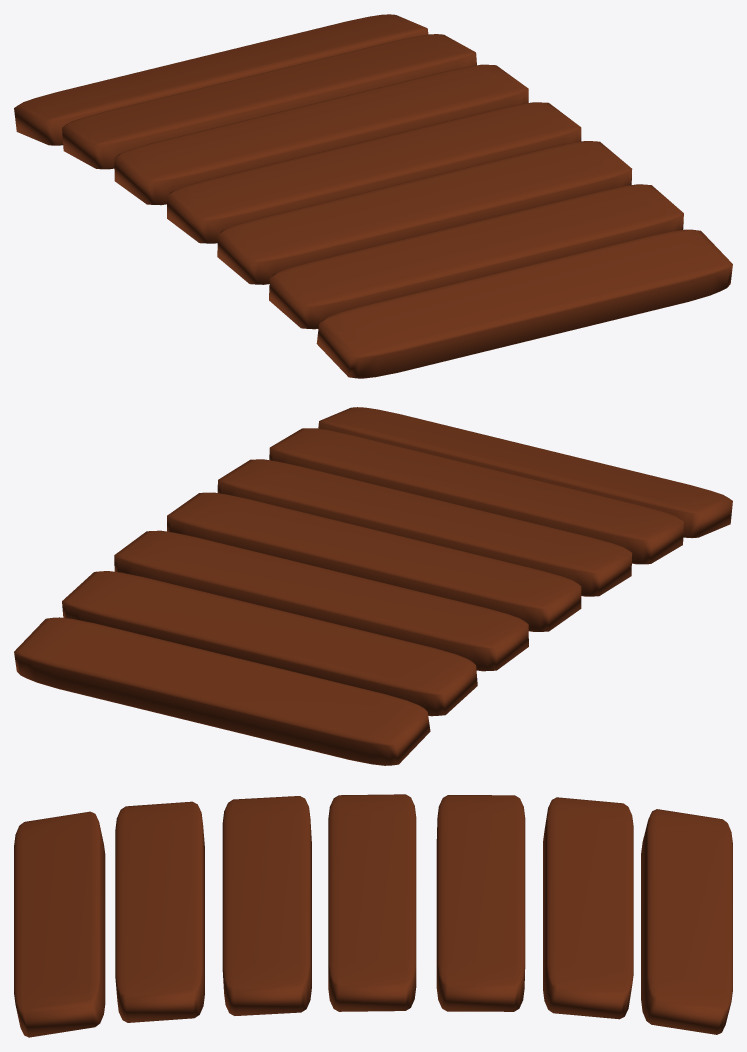
Rendered from Bridge.obj.
3 views of the same model, one above another, from view 1: azimuth 30°, elevation 25°; view 2: azimuth 150°, elevation 25°; view 3: azimuth 270°, elevation 25° (orthographic). The views are drawn at different scales.
Parts seen in each view (by area): view 1: Cube.010; view 2: Cube.010; view 3: Cube.010.
Boxes of the visible parts, box(x1,y1,x2,y2) form: Cube.010: box(14, 14, 732, 378); Cube.010: box(14, 407, 732, 765); Cube.010: box(14, 794, 732, 1037).
Size of the model in its own units: 2.28 by 0.3206 by 3.59.
